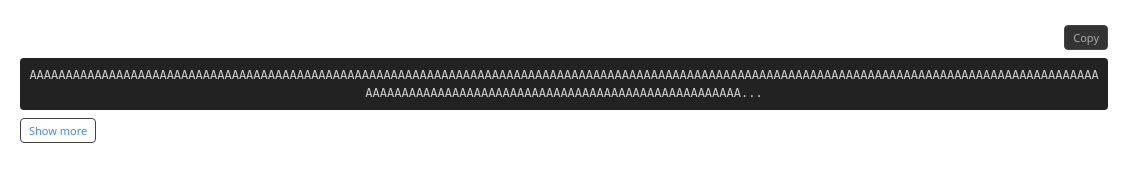
Test: Inspector Component (Story 7.7) › PromptDisplay (AC #4) › should expand prompt when clicking "Show more"
The width and height of the screenshot is (1125, 173).
Click the button with test id "expand-button". click: (58, 130)
box: [20,118,96,143]
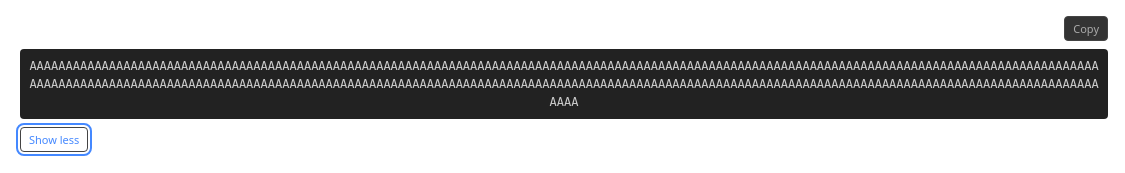
Check: the element with test id "prompt-text" no longer shows "..."
Check: the button "Show less" is shown, box [20,127,88,152]
